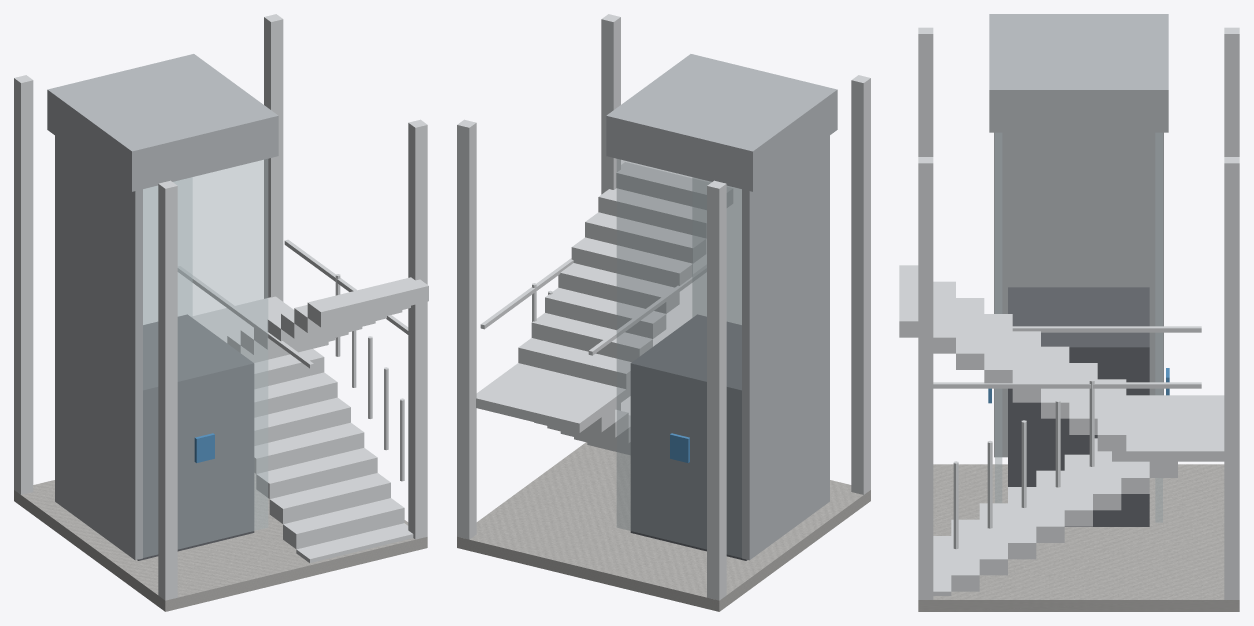
The model's file is ferry-terminal-and-harbour-crossing-ferry-terminal-and-f4e1921c__35660.glb.
The picture shows the model from 3 angles, left to right: view 1: azimuth 30°, elevation 25°; view 2: azimuth 150°, elevation 25°; view 3: azimuth 270°, elevation 25°; orthographic projection. The views are drawn at different scales.
Parts seen in each view (by area): view 1: ferry-terminal-and-harbour-crossing-lift-and-stair-core; view 2: ferry-terminal-and-harbour-crossing-lift-and-stair-core; view 3: ferry-terminal-and-harbour-crossing-lift-and-stair-core.
Part boxes in pixels (bbox=[...]): ferry-terminal-and-harbour-crossing-lift-and-stair-core: bbox=[14, 14, 428, 611]; ferry-terminal-and-harbour-crossing-lift-and-stair-core: bbox=[457, 14, 870, 611]; ferry-terminal-and-harbour-crossing-lift-and-stair-core: bbox=[899, 14, 1239, 611].
Size of the model in its own units: 3.4 by 5.4 by 3.6.
Materials: 6 (1 with a texture image).
